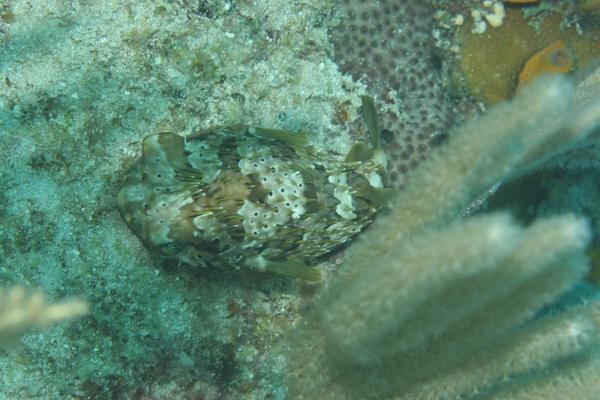Diodon_holocanthus: (87, 94, 426, 289)
